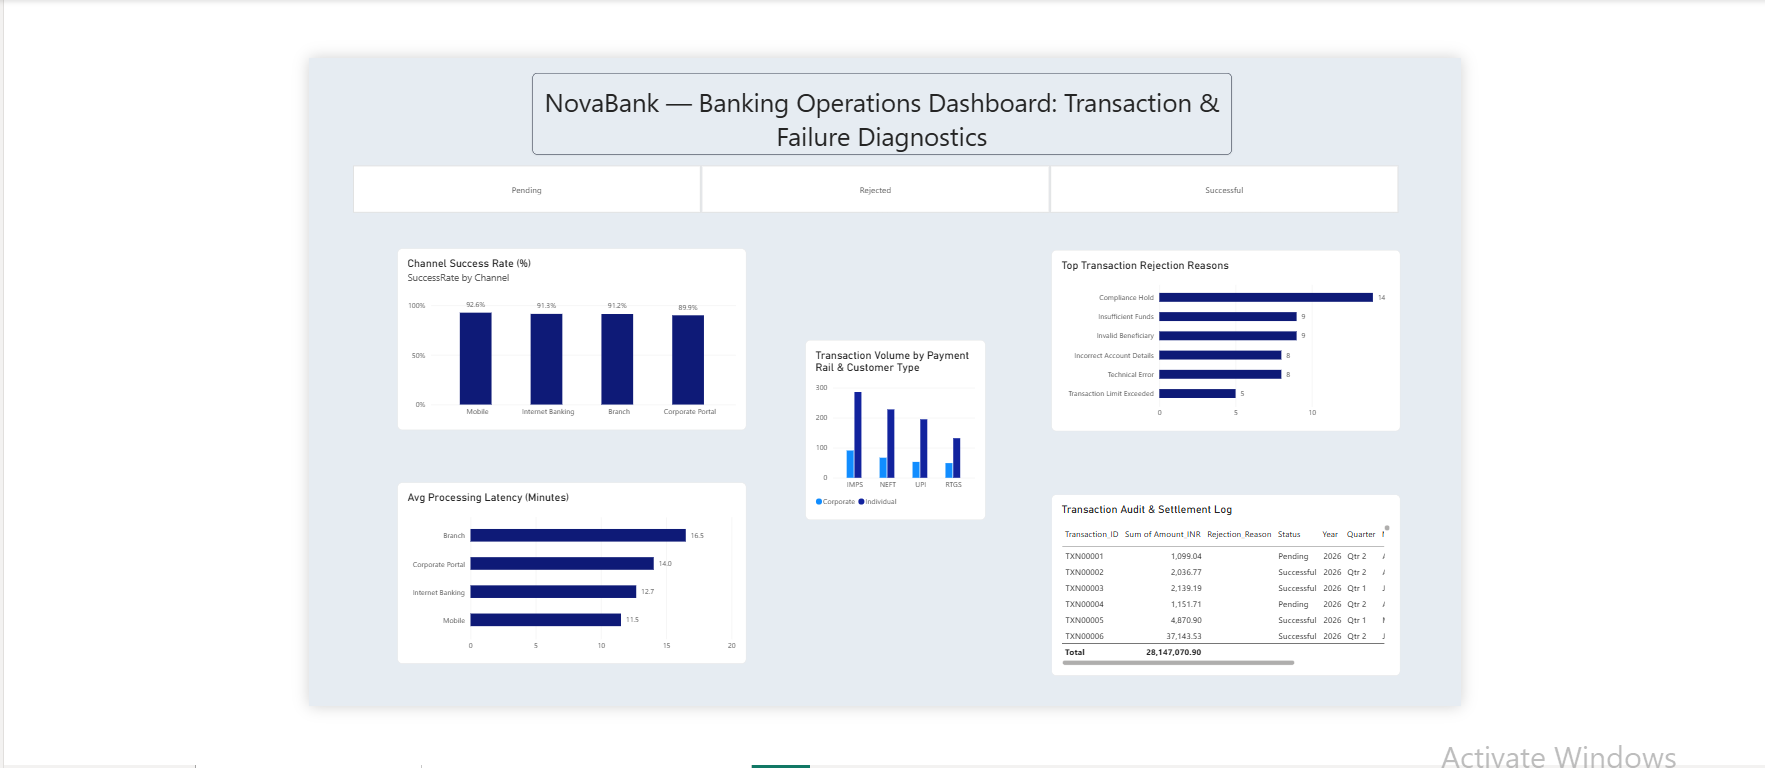

What the dashboard file says about the page in this screenshot:
{"tool":"powerbi","page":{"name":"Transaction & Failure Diagnostics","canvas":[1920,1080],"ordinal":1},"visuals":[{"type":"clusteredColumnChart","title":"Transaction Volume by Payment Rail & Customer Type","fields":{"Category":["BankingTransactions.Transaction_Type"],"Series":["BankingTransactions.Customer_Type"],"Y":["CountNonNull(BankingTransactions.Transaction_ID)"]},"box":[827.6,471.2,300,300],"z":0},{"type":"clusteredBarChart","title":"Top Transaction Rejection Reasons","fields":{"Category":["BankingTransactions.Rejection_Reason"],"Y":["CountNonNull(BankingTransactions.Transaction_ID)"]},"box":[1237.9,318.8,581,302],"z":1000},{"type":"clusteredColumnChart","title":"Channel Success Rate (%)","fields":{"Category":["BankingTransactions.Channel"],"Y":["BankingTransactions.SuccessRate"]},"box":[147.7,316.5,581.4,302.4],"z":2000},{"type":"barChart","title":"Avg Processing Latency (Minutes)","fields":{"Category":["BankingTransactions.Channel"],"Y":["Avg(BankingTransactions.Processing_Time_Min)"]},"box":[147.7,708,581,302],"z":3000},{"type":"textbox","box":[372.8,25.8,1165.2,136],"z":3001},{"type":"slicer","fields":{"Values":["BankingTransactions.Status"]},"box":[51.6,178.2,1781.8,82.1],"z":3002},{"type":"tableEx","title":"Transaction Audit & Settlement Log","fields":{"Values":["BankingTransactions.Transaction_ID","Sum(BankingTransactions.Amount_INR)","BankingTransactions.Rejection_Reason","BankingTransactions.Status","BankingTransactions.Transaction_Date.Variation.Date Hierarchy.Year","BankingTransactions.Transaction_Date.Variation.Date Hierarchy.Quarter","BankingTransactions.Transaction_Date.Variation.Date Hierarchy.Month","BankingTransactions.Transaction_Date.Variation.Date Hierarchy.Day","BankingTransactions.Transaction_Type"]},"box":[1237.9,726.8,581,302],"z":3003}]}

Visuals, with their boxes on the page's 1920x1080 design canvas (x1, y1, x2, y2). These are canvas units, not pixel positions in the 1765x768 screenshot, which may show the page scaled, cropped or inside an application window:
"Transaction Volume by Payment Rail & Customer Type" clusteredColumnChart: rect(828, 471, 1128, 771)
"Top Transaction Rejection Reasons" clusteredBarChart: rect(1238, 319, 1819, 621)
"Channel Success Rate (%)" clusteredColumnChart: rect(148, 316, 729, 619)
"Avg Processing Latency (Minutes)" barChart: rect(148, 708, 729, 1010)
textbox: rect(373, 26, 1538, 162)
slicer - BankingTransactions.Status: rect(52, 178, 1833, 260)
"Transaction Audit & Settlement Log" tableEx: rect(1238, 727, 1819, 1029)
